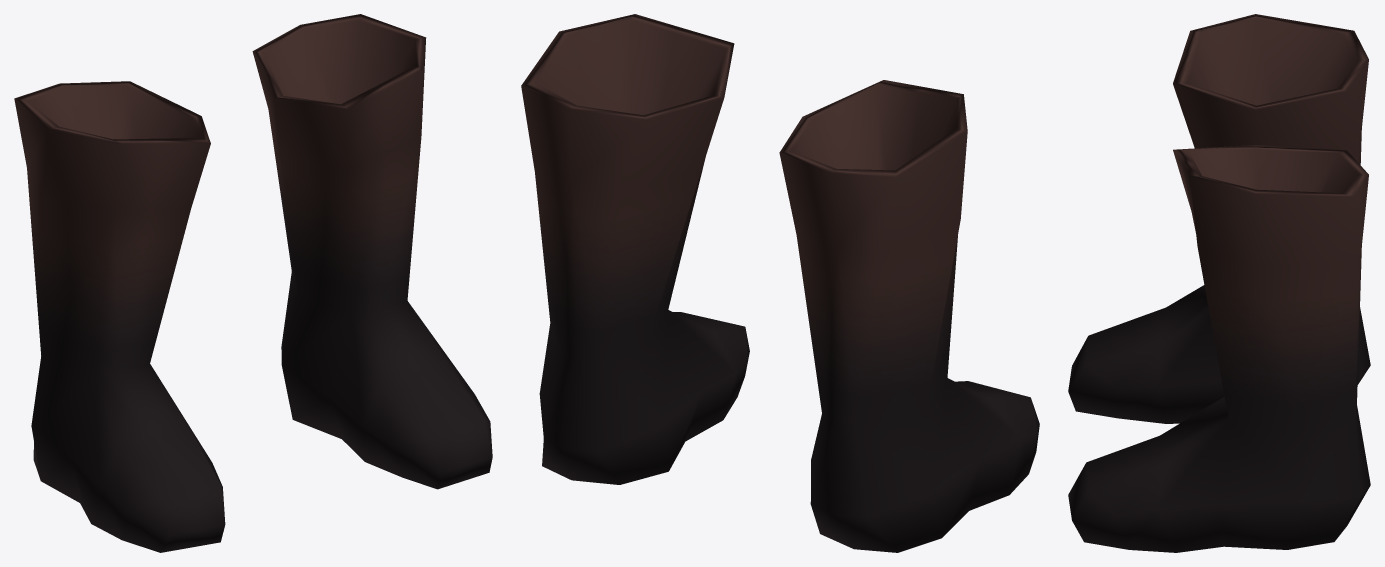
Rendered from Boots01.fbx.
3 renders of one model, left to right at view 1: azimuth 30°, elevation 25°; view 2: azimuth 150°, elevation 25°; view 3: azimuth 270°, elevation 25°, orthographic. The views are drawn at different scales.
Parts seen in each view (by area): view 1: Boots01; view 2: Boots01; view 3: Boots01.
Part boxes in pixels (bbox=[...]): Boots01: bbox=[14, 14, 492, 552]; Boots01: bbox=[521, 14, 1039, 552]; Boots01: bbox=[1068, 14, 1370, 552].
Bounding box in the file's own units: 53.94 × 49.89 × 38.02.
Materials: 1 (1 with a texture image).
